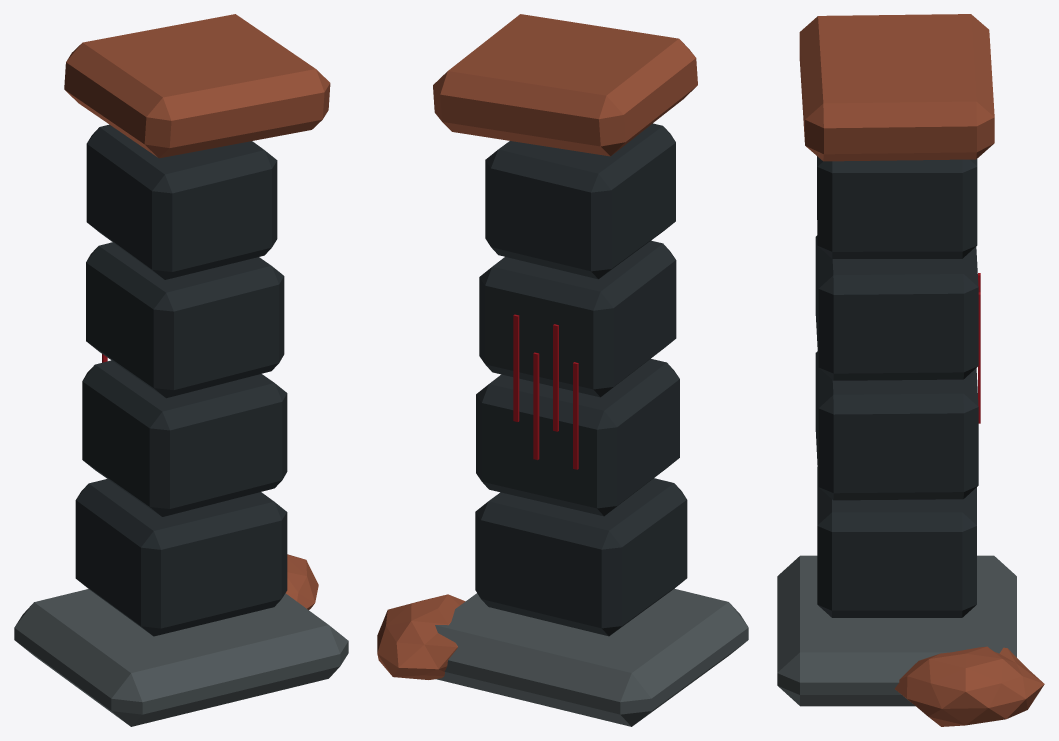
The model's file is ruin_pillar.fbx.
3 views of the same model, side by side, from view 1: azimuth 30°, elevation 25°; view 2: azimuth 150°, elevation 25°; view 3: azimuth 270°, elevation 25° (orthographic).
Visible parts, largest first — view 1: ruin_pillar; view 2: ruin_pillar; view 3: ruin_pillar.
Part boxes in pixels (x1,y1,x2,y2): ruin_pillar: (14,14,348,726); ruin_pillar: (377,14,748,726); ruin_pillar: (777,14,1044,726).
Size of the model in its own units: 1.41 by 3 by 1.17.
